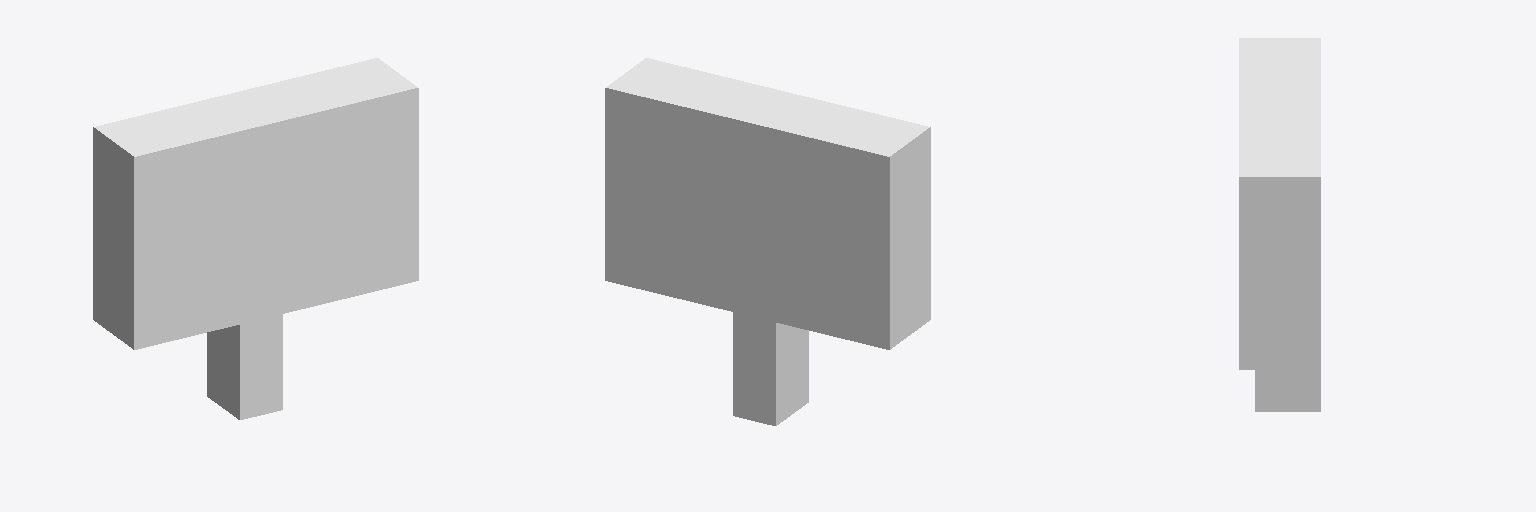
The model's file is hint.obj.
3 views of the same model, side by side, from view 1: azimuth 30°, elevation 25°; view 2: azimuth 150°, elevation 25°; view 3: azimuth 270°, elevation 25° (orthographic).
Visible parts, largest first — view 1: object 1; view 2: object 1; view 3: object 1.
Boxes of the visible parts, box(x1,y1,x2,y2) form: object 1: box(93, 58, 418, 419); object 1: box(605, 58, 930, 425); object 1: box(1239, 38, 1320, 411).
Size of the model in its own units: 2 by 2 by 0.5.